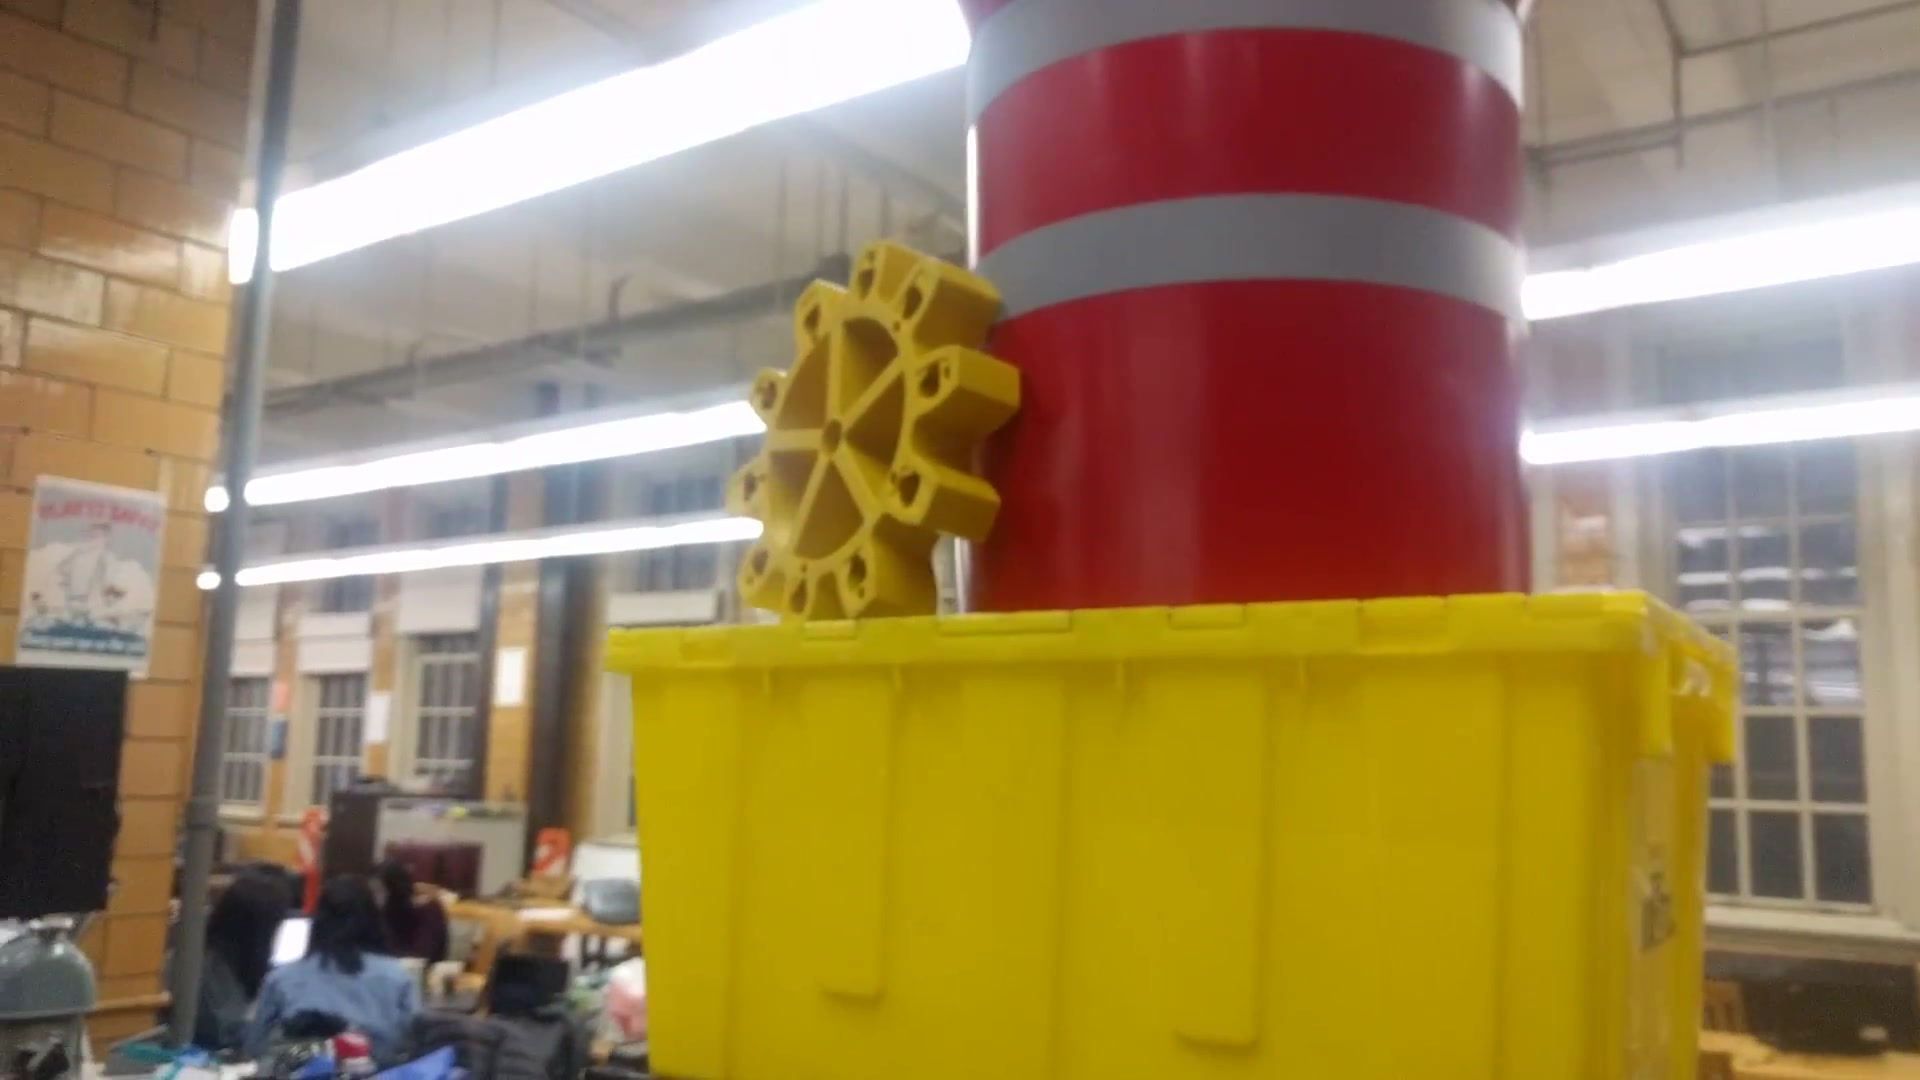gear: (711, 225, 1017, 650)
